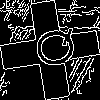Q: (25, 25, 79, 71)
